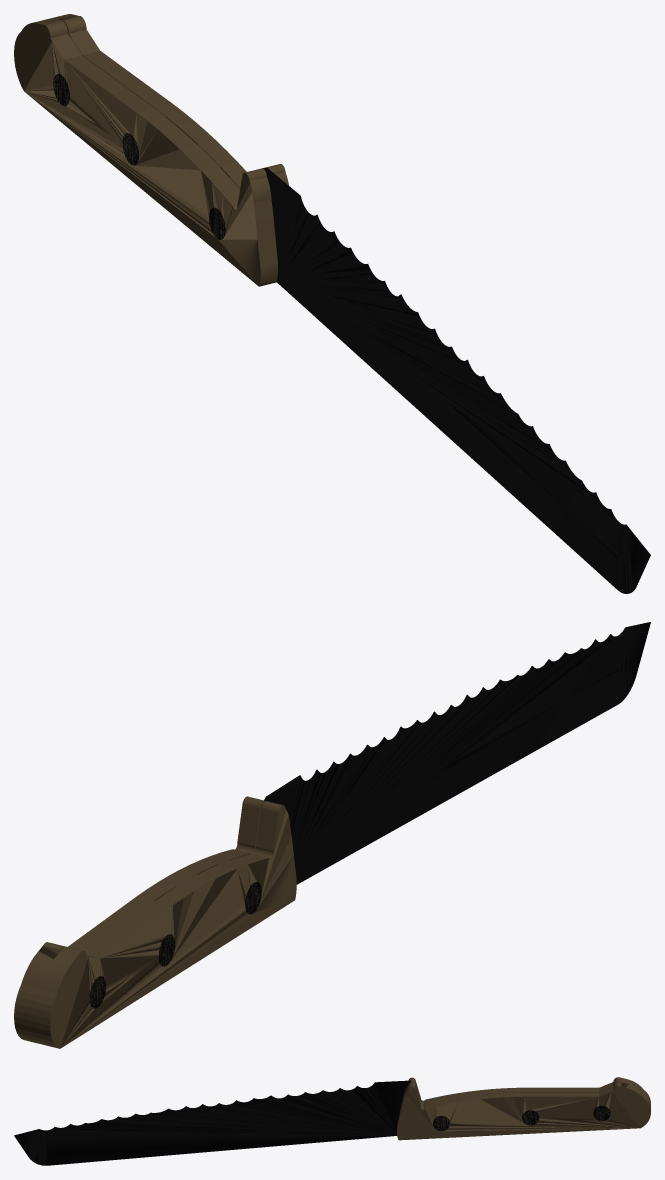
The model's file is model_align.obj.
The picture shows the model from 3 angles, top to bottom: view 1: azimuth 30°, elevation 25°; view 2: azimuth 150°, elevation 25°; view 3: azimuth 270°, elevation 25°; orthographic projection. The views are drawn at different scales.
Size of the model in its own units: 0.0078 by 0.034 by 0.2308.
